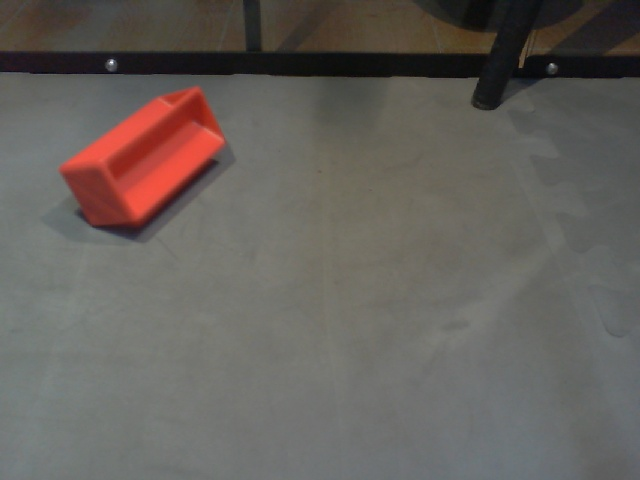RedSample: (58, 85, 227, 228)
